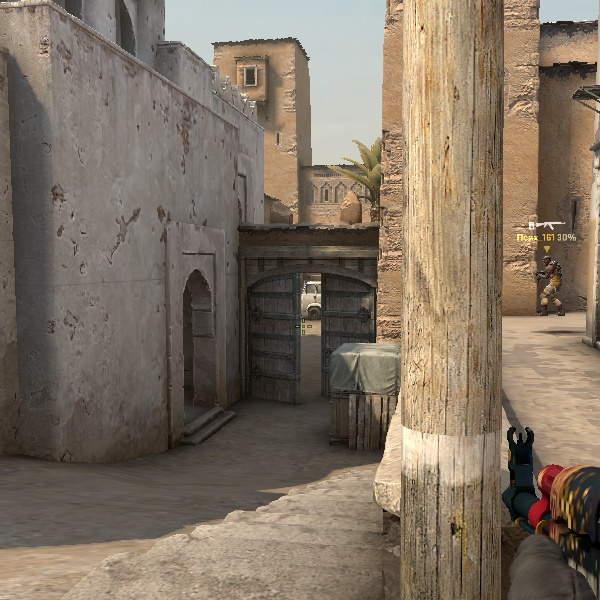t_body: (533, 253, 565, 317)
t_head: (541, 255, 551, 269)
